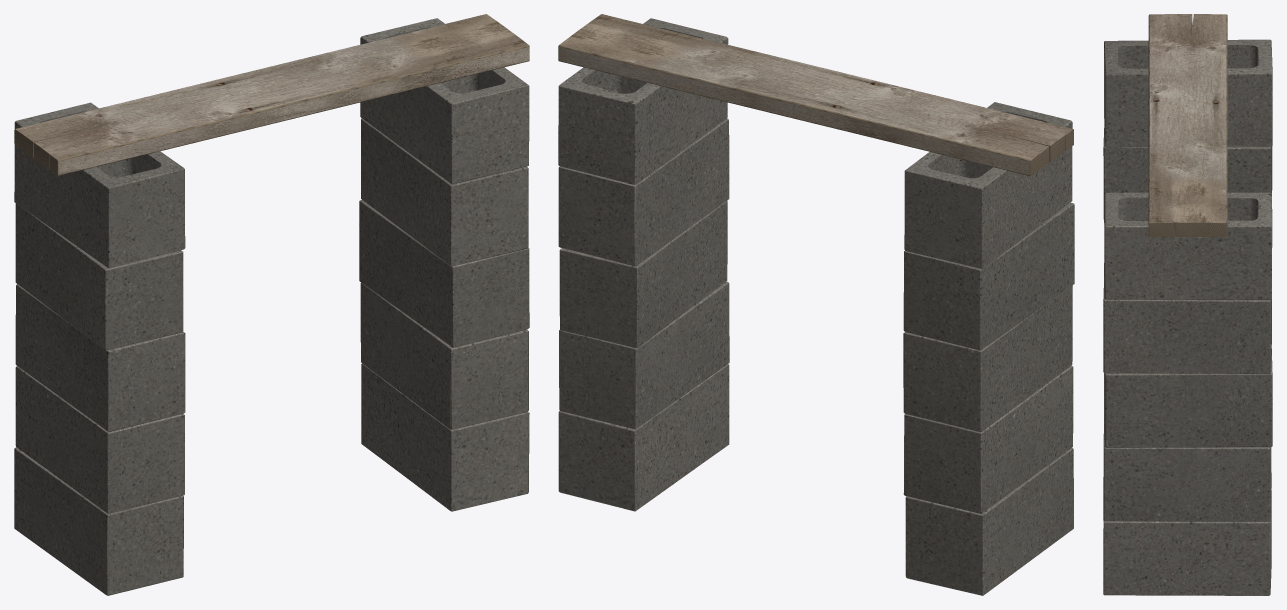
Rendered from shelf.glb.
3 renders of one model, left to right at view 1: azimuth 30°, elevation 25°; view 2: azimuth 150°, elevation 25°; view 3: azimuth 270°, elevation 25°, orthographic. The views are drawn at different scales.
Parts seen in each view (by area): view 1: shelf; view 2: shelf; view 3: shelf.
Part boxes in pixels (x1,y1,x2,y2): shelf: [14, 14, 529, 595]; shelf: [558, 14, 1074, 595]; shelf: [1103, 14, 1272, 595].
Size of the model in its own units: 1.15 by 0.9888 by 0.3948.
Materials: 3 (3 with a texture image).
